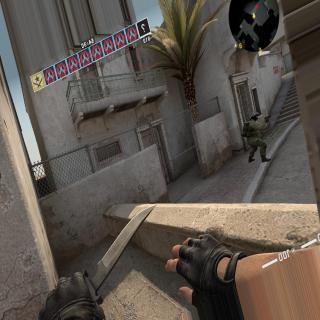CT-Body: (245, 109, 269, 158)
CT-Head: (249, 110, 259, 120)
